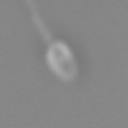normal: (12, 1, 61, 42)
